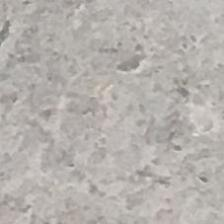Non_Crack: (33, 11, 224, 224)
